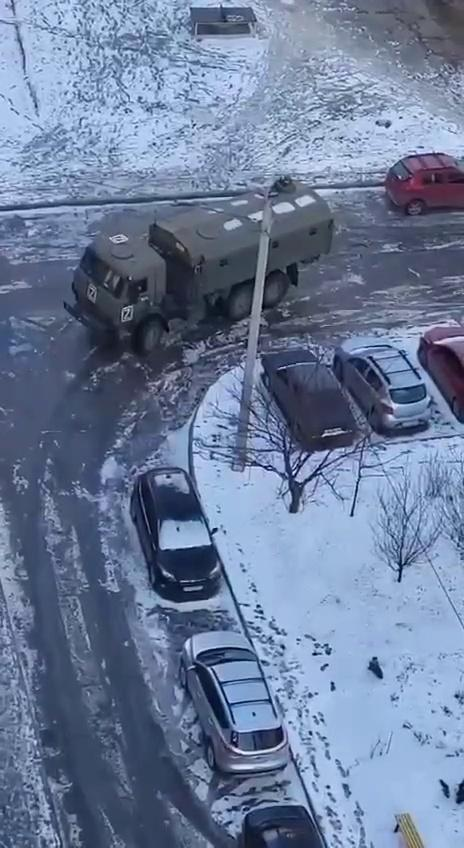car: (180, 630, 290, 780), (129, 466, 223, 600), (259, 345, 358, 447), (336, 337, 434, 434), (385, 152, 464, 214), (418, 326, 464, 424)
truck: (62, 177, 336, 354)
